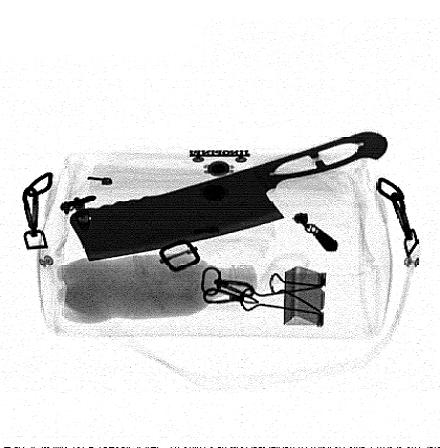Knife: (69, 131, 389, 262)
